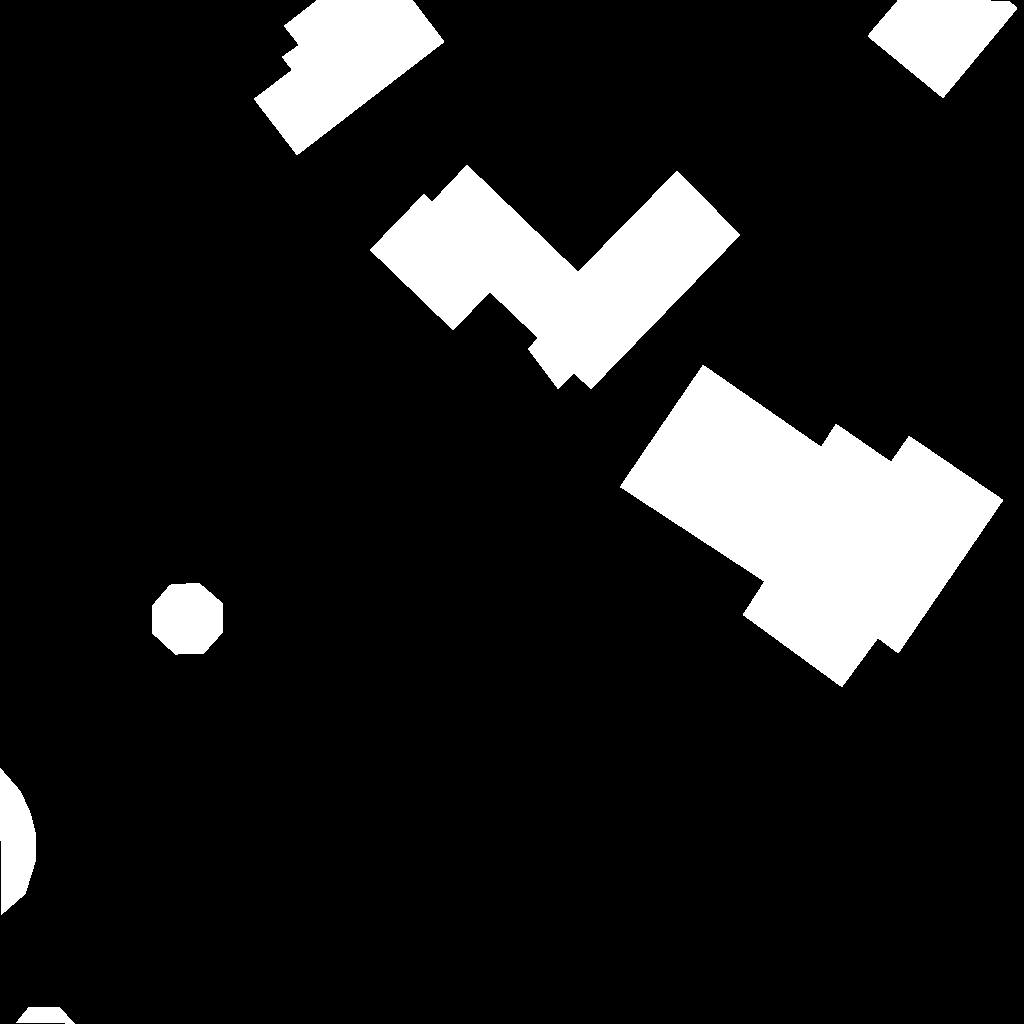building: (620, 365, 1004, 688), (370, 165, 741, 390), (254, 0, 445, 156), (868, 0, 1018, 99), (0, 768, 36, 916), (152, 583, 223, 655), (16, 1007, 76, 1024)
